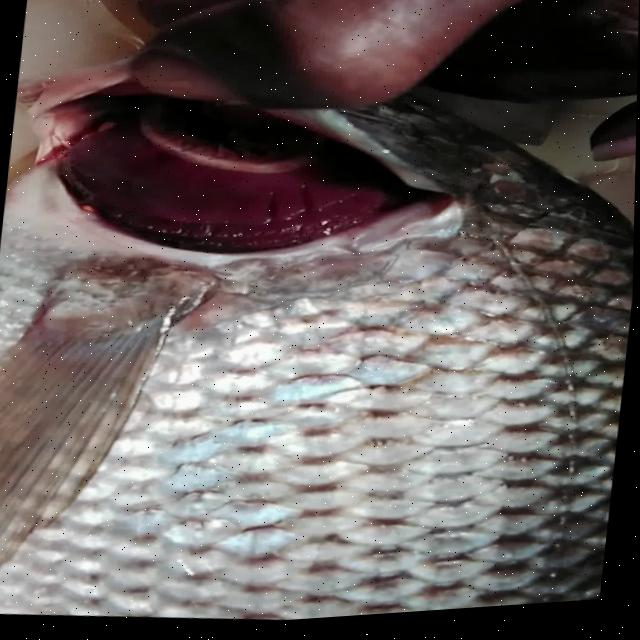Fresh: (10, 65, 455, 305)
